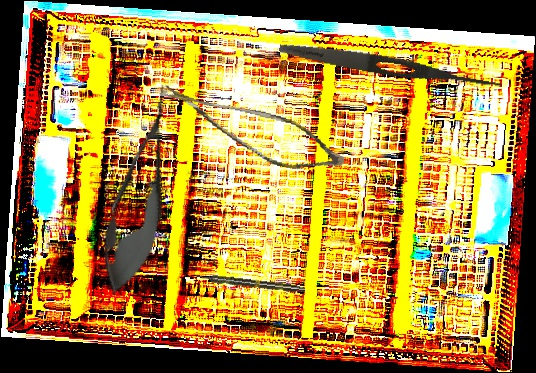Dressing Forceps: (277, 38, 505, 94)
Handpiece: (195, 271, 306, 295)
Micro Scissor: (90, 79, 191, 302), (150, 84, 352, 178)
